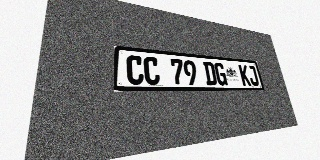7: (169, 59, 185, 85)
9: (183, 60, 198, 85)
C: (126, 55, 144, 85), (143, 56, 160, 85)
D: (203, 61, 217, 85)
G: (214, 62, 228, 86)
J: (247, 65, 259, 86)
K: (238, 65, 251, 86)
